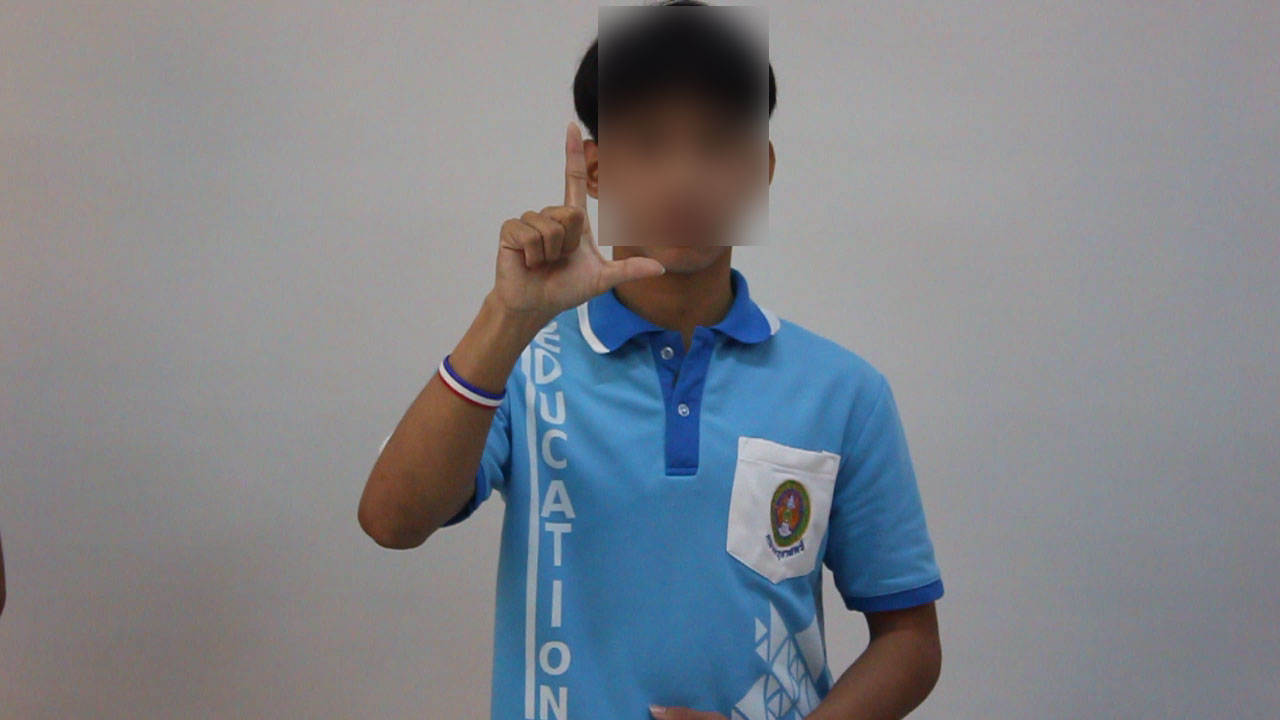lor: (477, 105, 708, 326)
